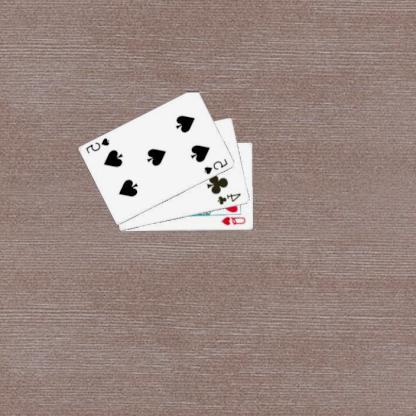4C: (217, 191, 244, 206)
5S: (203, 156, 231, 176), (85, 135, 113, 155)
QH: (220, 214, 249, 227)
